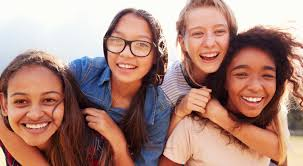without_mask: (1, 67, 71, 147), (106, 16, 159, 84), (227, 51, 279, 119), (179, 9, 233, 73)
